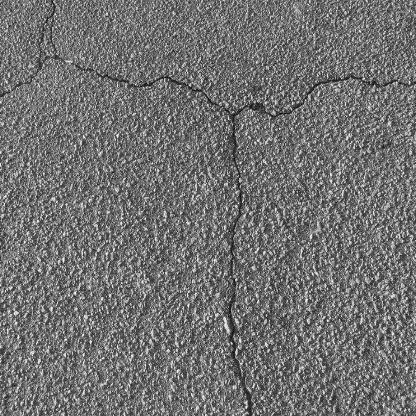Cracks: (0, 0, 416, 117), (220, 120, 260, 416)
